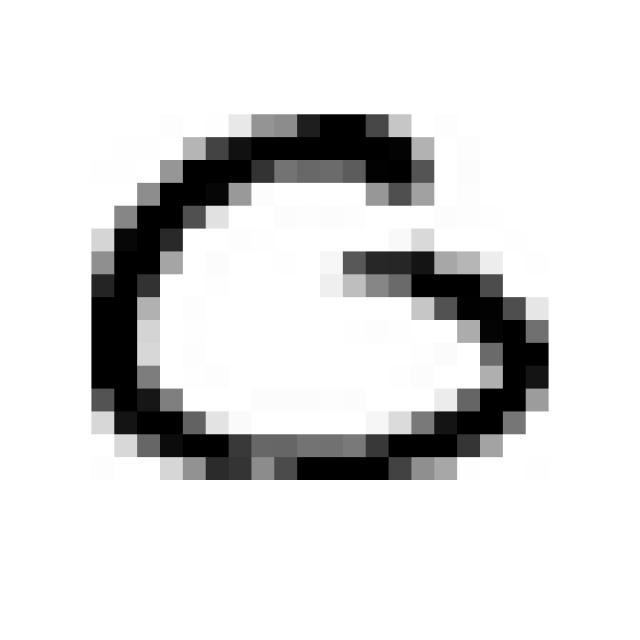5 -five-: (73, 89, 564, 498)
